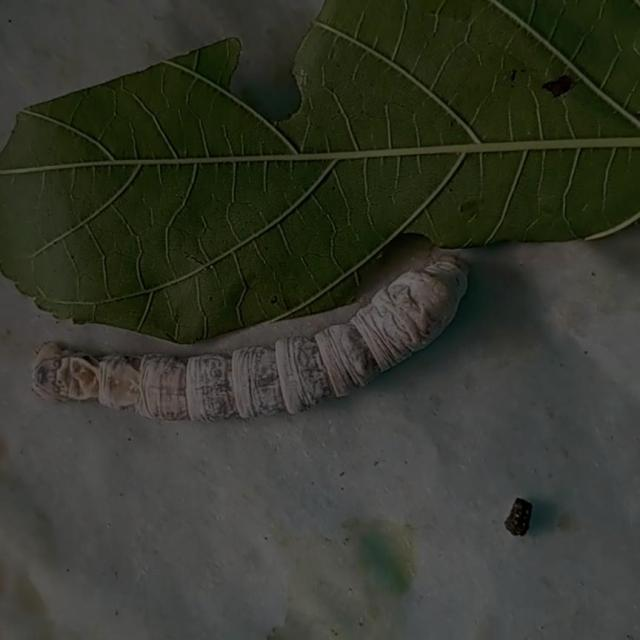Grasserie: (21, 221, 509, 437)
